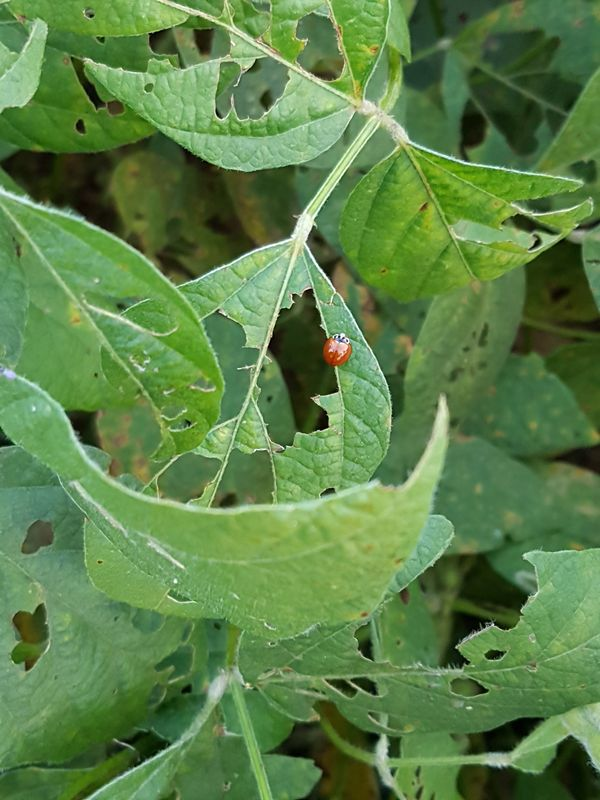Coccinellidae: (314, 323, 365, 375)
